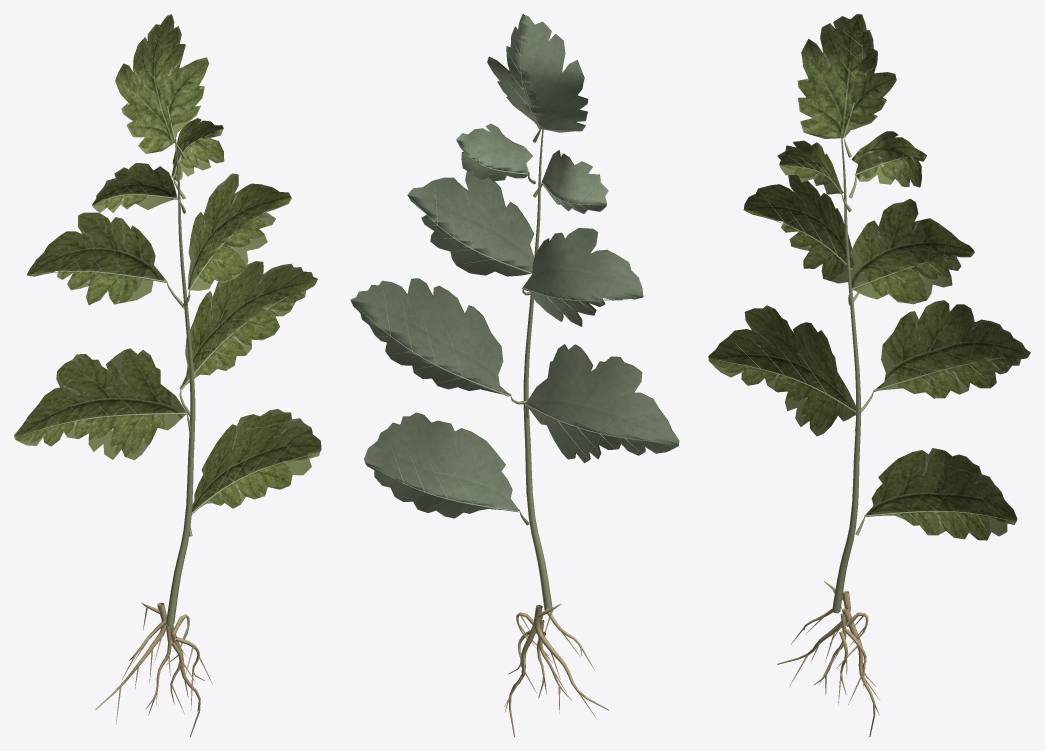
The model's file is planting-mugwort.glb.
The picture shows the model from 3 angles, left to right: view 1: azimuth 30°, elevation 25°; view 2: azimuth 150°, elevation 25°; view 3: azimuth 330°, elevation 25°; orthographic projection. The views are drawn at different scales.
Visible parts, largest first — view 1: Mugwort photographic upper surface, Natural grey green stem, Leaf midribs, Pale fibrous roots; view 2: Mugwort photographic upper surface, Natural grey green stem, Pale fibrous roots; view 3: Mugwort photographic upper surface, Natural grey green stem, Leaf midribs, Pale fibrous roots.
Part boxes in pixels (<box>): Mugwort photographic upper surface: <box>14,14,321,511</box>; Natural grey green stem: <box>166,139,195,624</box>; Leaf midribs: <box>21,21,311,514</box>; Pale fibrous roots: <box>95,602,212,736</box>; Mugwort photographic upper surface: <box>350,14,679,518</box>; Natural grey green stem: <box>510,129,552,611</box>; Pale fibrous roots: <box>504,603,608,736</box>; Mugwort photographic upper surface: <box>708,14,1030,540</box>; Natural grey green stem: <box>832,134,873,613</box>; Leaf midribs: <box>716,20,1023,535</box>; Pale fibrous roots: <box>777,581,880,736</box>.
Bounding box in the file's own units: 1.74 × 3.82 × 0.3723.
Materials: 6 (2 with a texture image).
